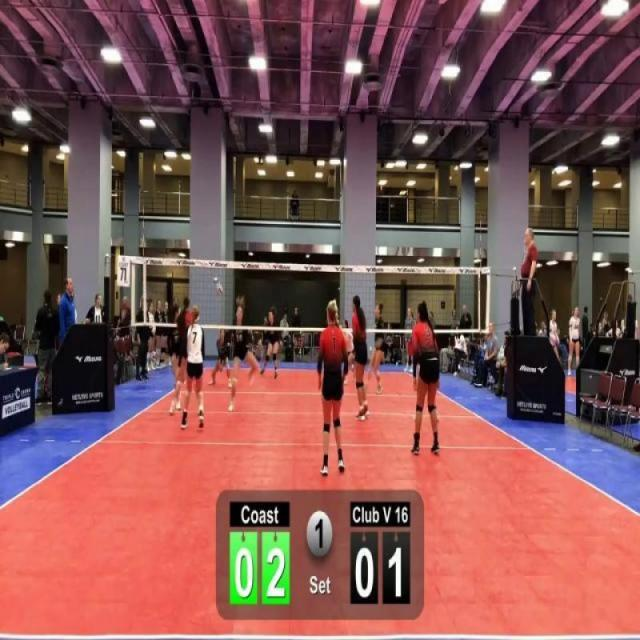volleyball: (214, 280, 223, 297), (594, 322, 602, 334)
